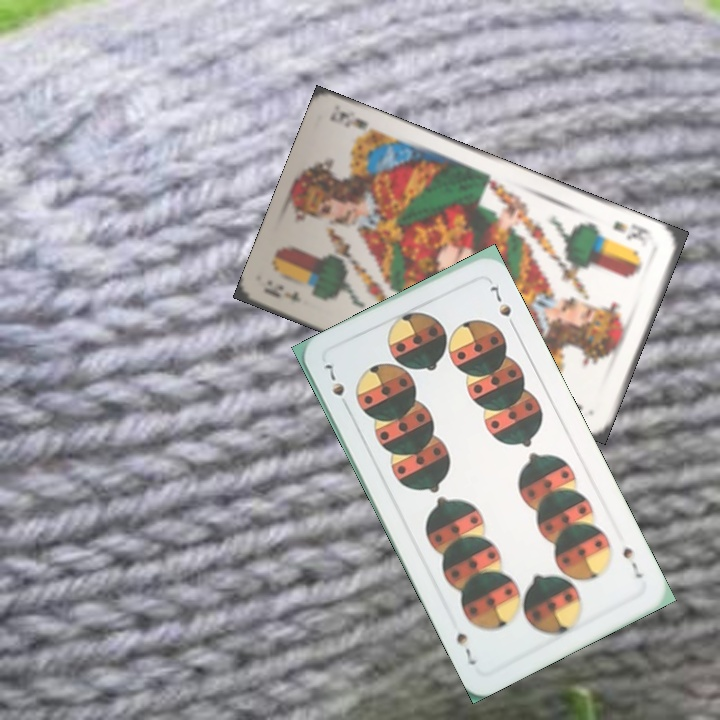EK: (608, 217, 658, 250), (261, 280, 304, 305)
S7: (320, 360, 352, 413), (619, 543, 646, 581)
